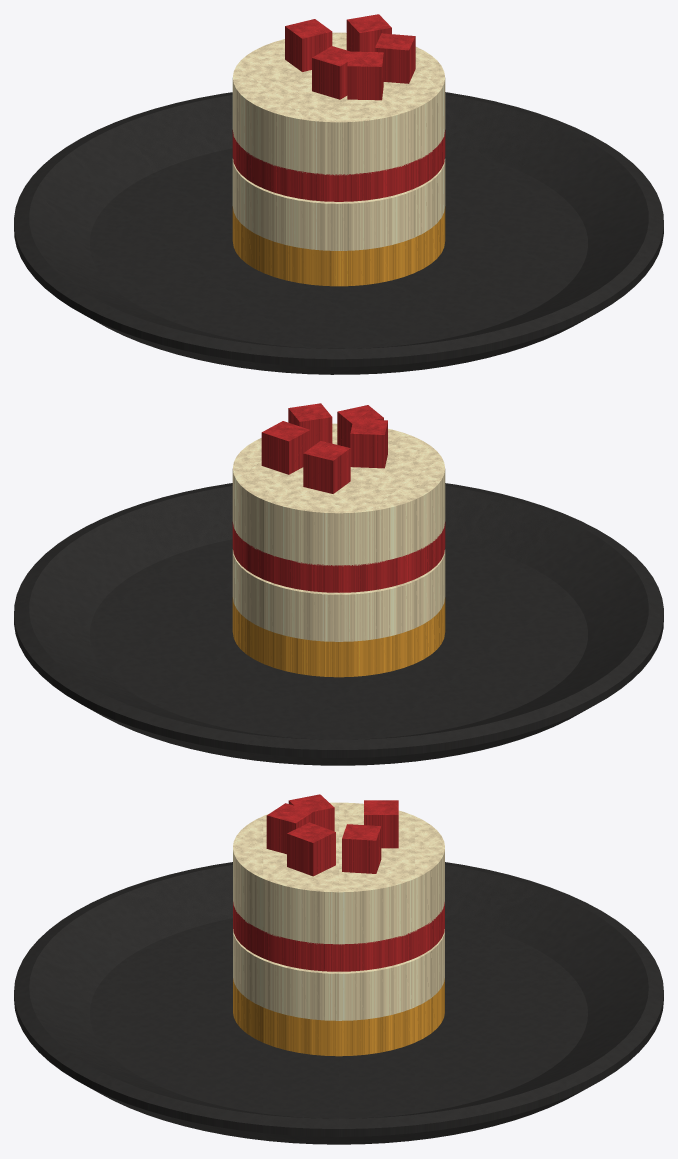
File: suspiro-guayaba.glb
The picture shows the model from 3 angles, top to bottom: view 1: azimuth 30°, elevation 25°; view 2: azimuth 150°, elevation 25°; view 3: azimuth 270°, elevation 25°; orthographic projection.
Visible parts, largest first — view 1: part0, part2, part3, part1; view 2: part0, part2, part3, part1; view 3: part0, part2, part3, part1.
Boxes of the visible parts, <box> form: part0: <box>14,92,663,374</box>; part2: <box>232,32,445,250</box>; part3: <box>232,14,445,201</box>; part1: <box>232,206,445,286</box>; part0: <box>14,483,663,765</box>; part2: <box>232,423,445,641</box>; part3: <box>232,403,445,592</box>; part1: <box>232,597,445,677</box>; part0: <box>14,862,663,1144</box>; part2: <box>233,802,444,1020</box>; part3: <box>233,794,444,971</box>; part1: <box>233,978,444,1056</box>.
Size of the model in its own units: 0.3 by 0.1145 by 0.3.
Materials: 4 (4 with a texture image).
